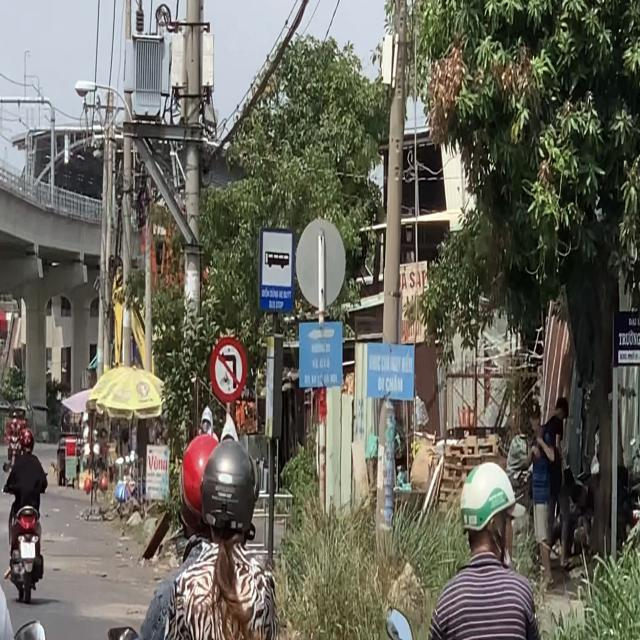Ben xe buyt: (258, 226, 294, 314)
Cam re trai: (209, 334, 248, 403)
